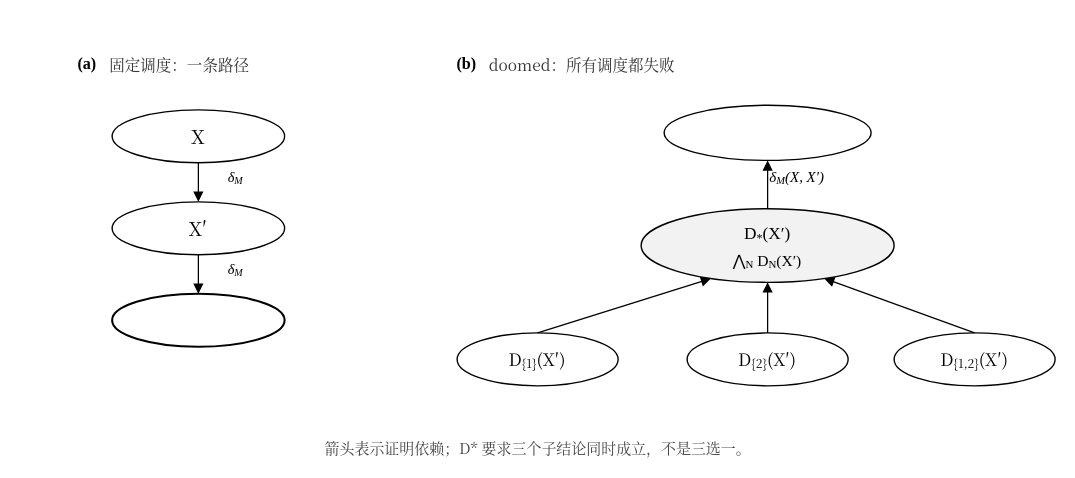
This 1075x478 diagram has some shape labels left out. Here are the shapes that lost their labels. From the top down, the centre of each, then its label:
the point at 767,132: D M (X)
the point at 198,319: 坏状态
